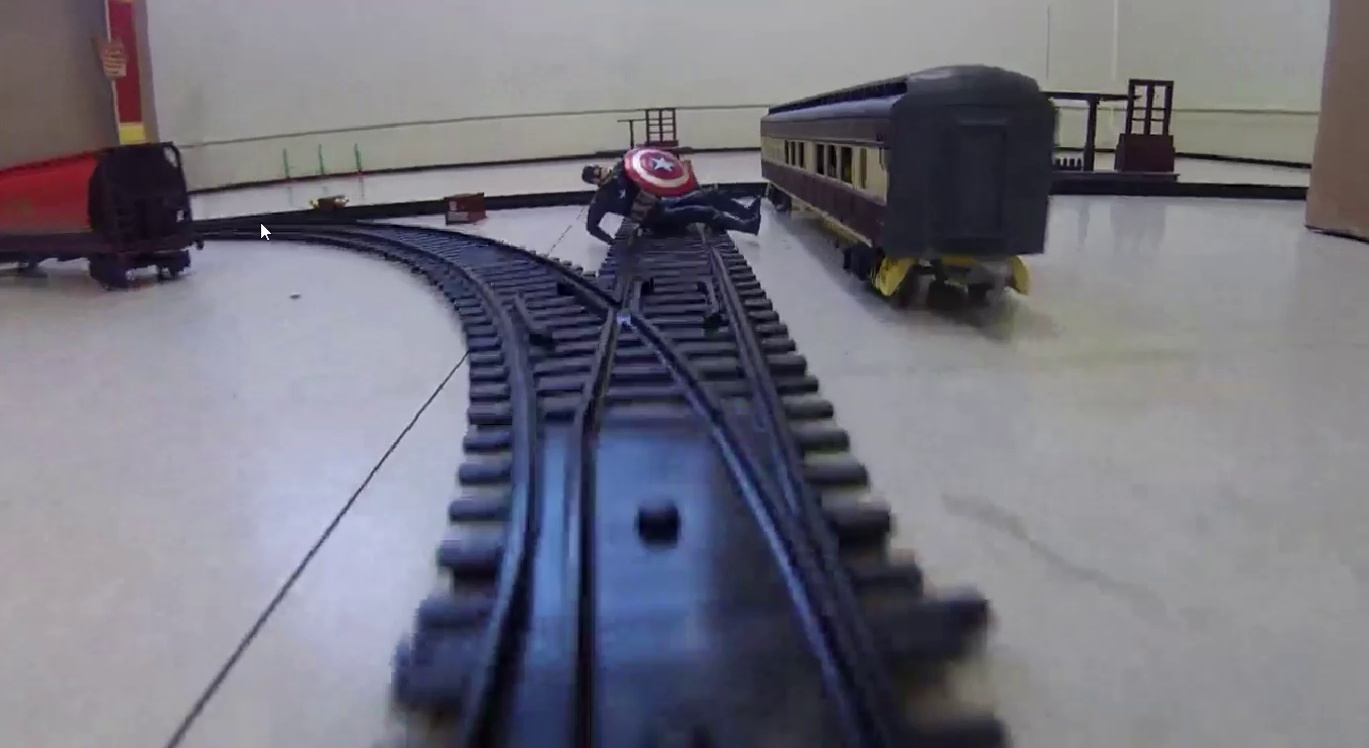box: (445, 195, 485, 228)
people: (579, 154, 767, 237)
